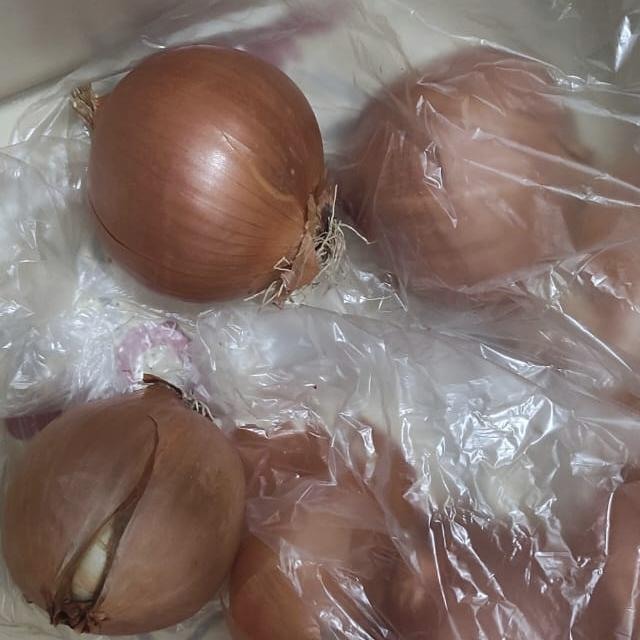onion: (61, 31, 356, 304), (0, 365, 254, 636)
